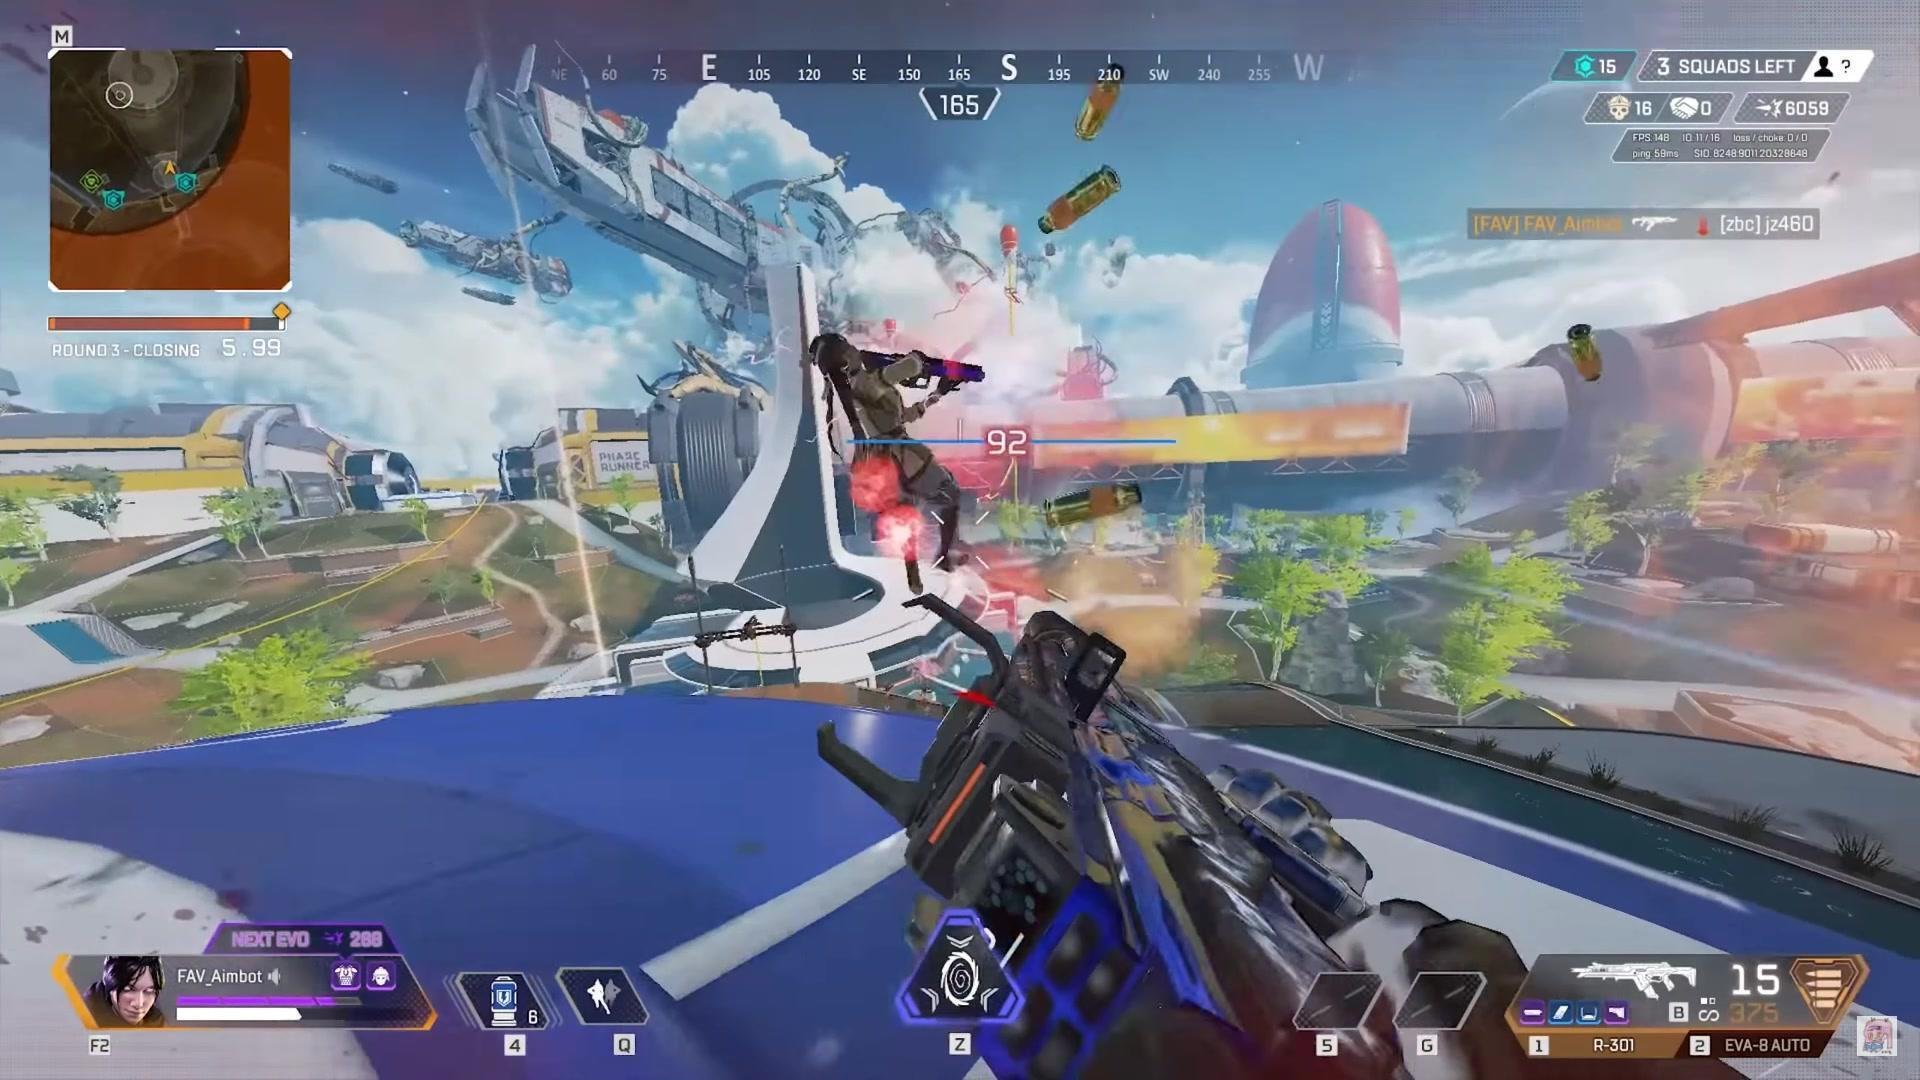avatar: (808, 334, 971, 594)
object: (873, 503, 936, 569), (847, 453, 903, 513)
